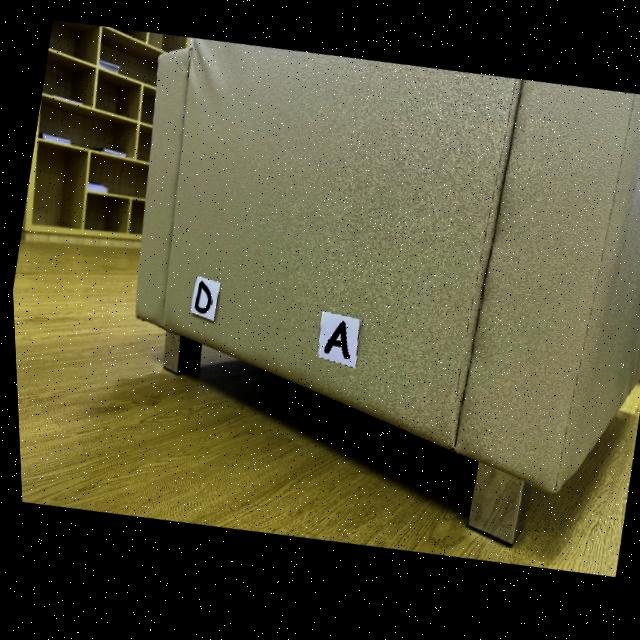A: (321, 326, 346, 365)
D: (192, 284, 210, 316)
